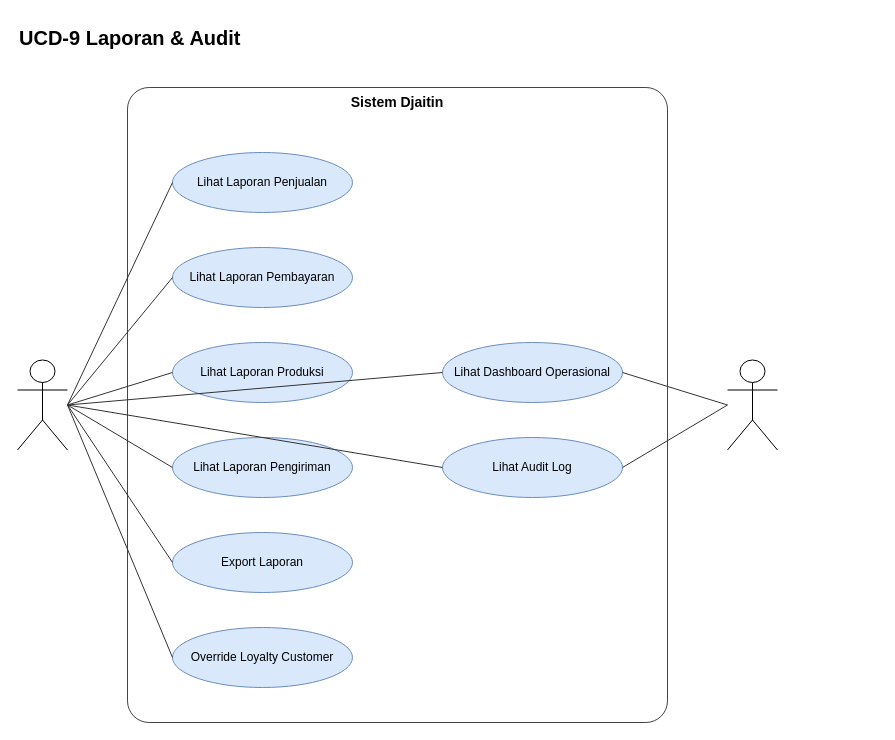
Image size: 895x740. Some labels were removed from this diagram. The centre of each missing label's shape, as x and y in pixels:
Admin: [752,404]
Owner: [42,404]
